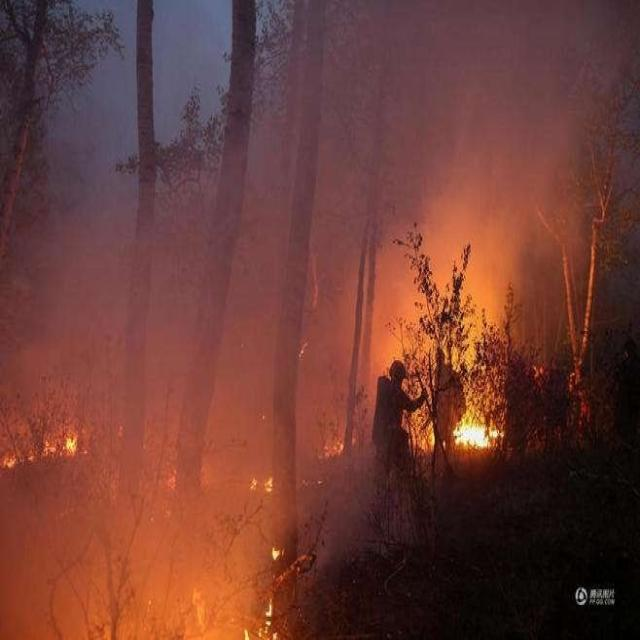fire: (439, 264, 537, 475)
smoke: (4, 196, 337, 640), (346, 11, 627, 266)
